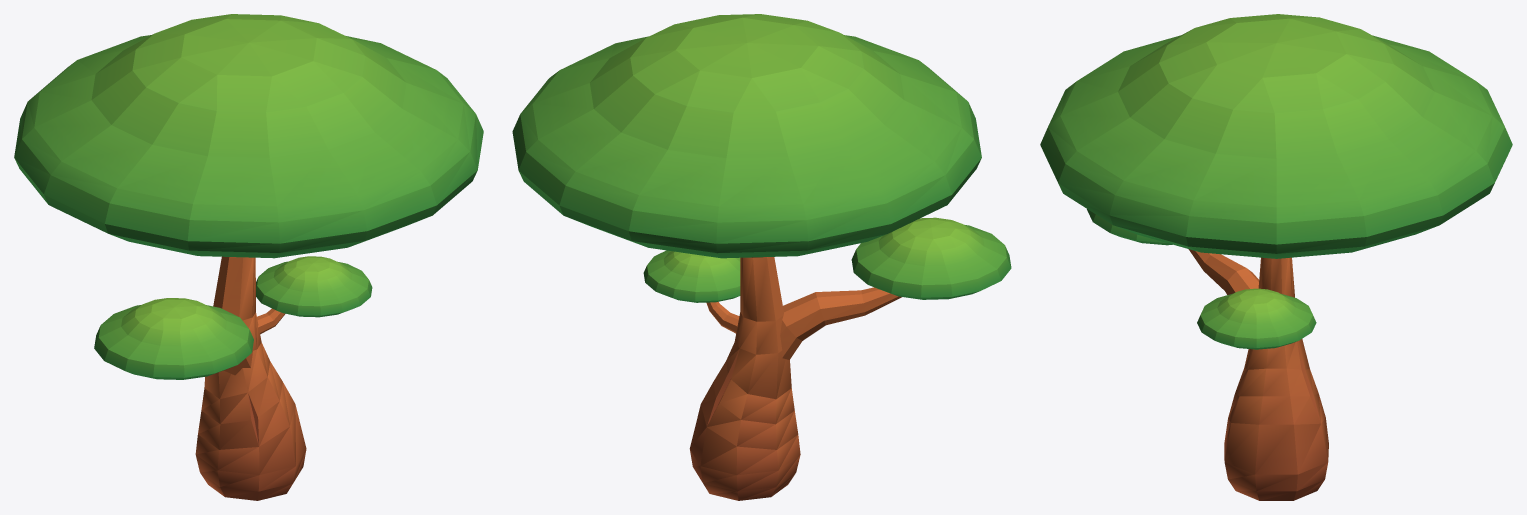
The model's file is kf_tree_3_b.fbx.
The picture shows the model from 3 angles, left to right: view 1: azimuth 30°, elevation 25°; view 2: azimuth 150°, elevation 25°; view 3: azimuth 270°, elevation 25°; orthographic projection.
Visible parts, largest first — view 1: kf_tree_3_b_LOD0; view 2: kf_tree_3_b_LOD0; view 3: kf_tree_3_b_LOD0.
Part boxes in pixels (box(x1,y1,x2,y2)): kf_tree_3_b_LOD0: box(14, 14, 483, 500); kf_tree_3_b_LOD0: box(512, 14, 1011, 500); kf_tree_3_b_LOD0: box(1040, 14, 1512, 500).
Size of what is drawn, in the model's own units: 4.75 by 5.01 by 4.75.
1 material, 1 textured.
